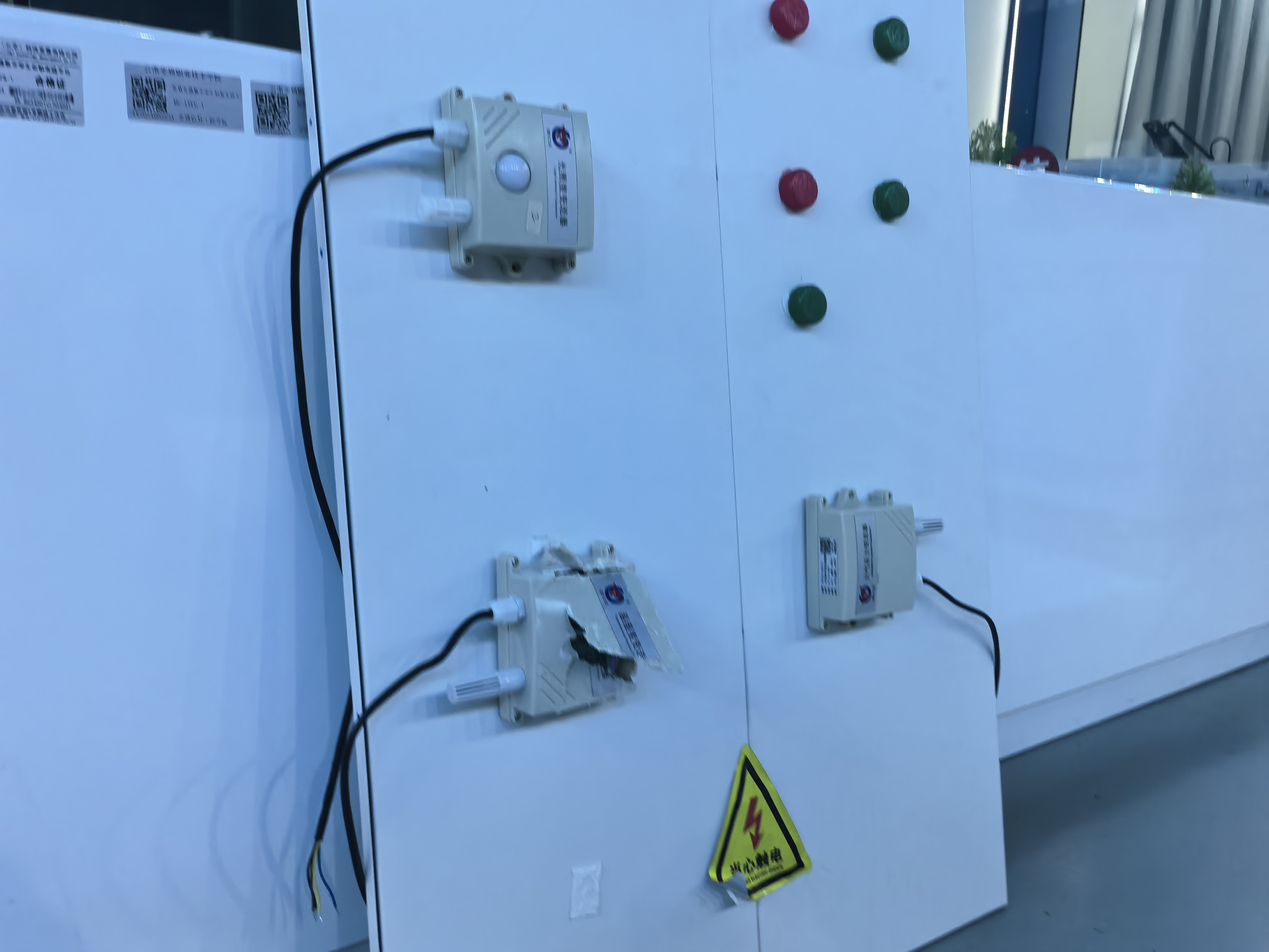red_warning: (762, 148, 829, 225)
sensor_damage: (434, 499, 704, 744)
